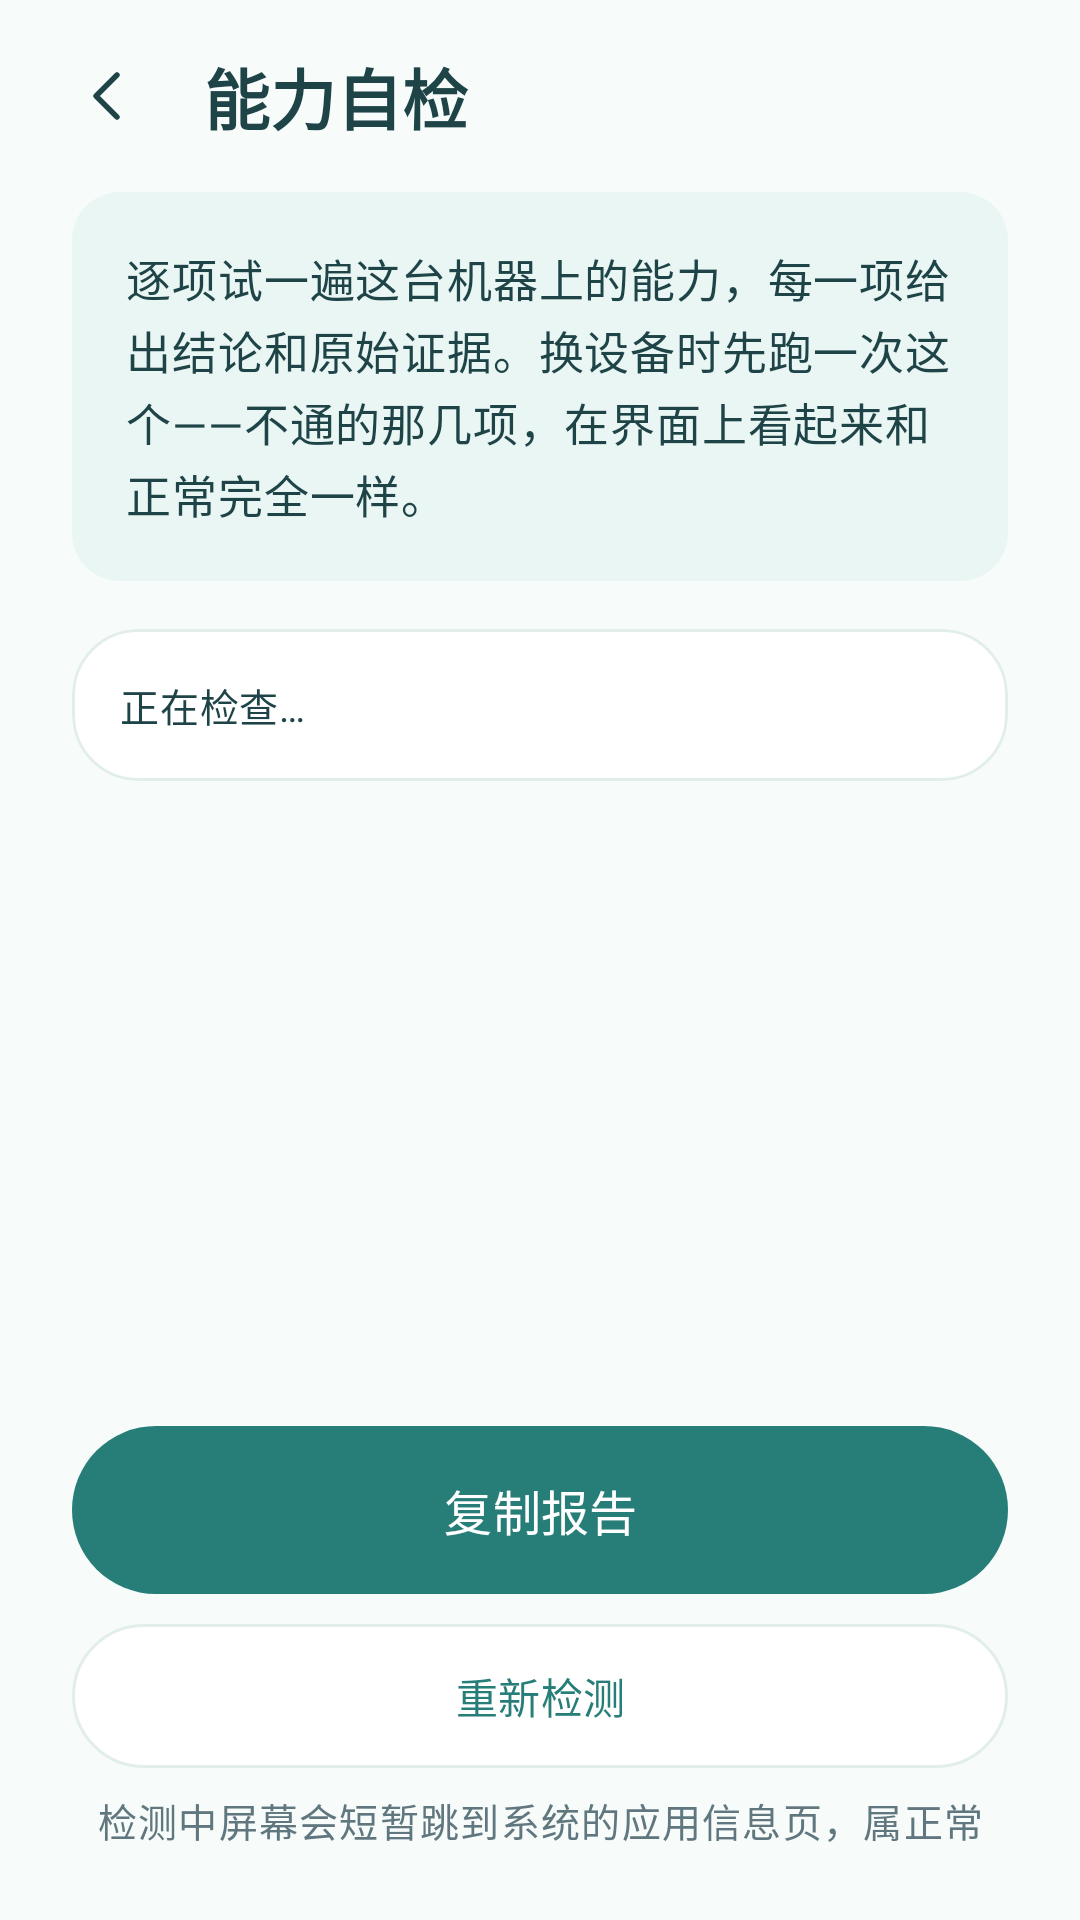

Named icons in this screenshot (1080 x 1920) and their bounding boxes, (x1, y1, x2, y2):
返回: (93, 72, 120, 120)
